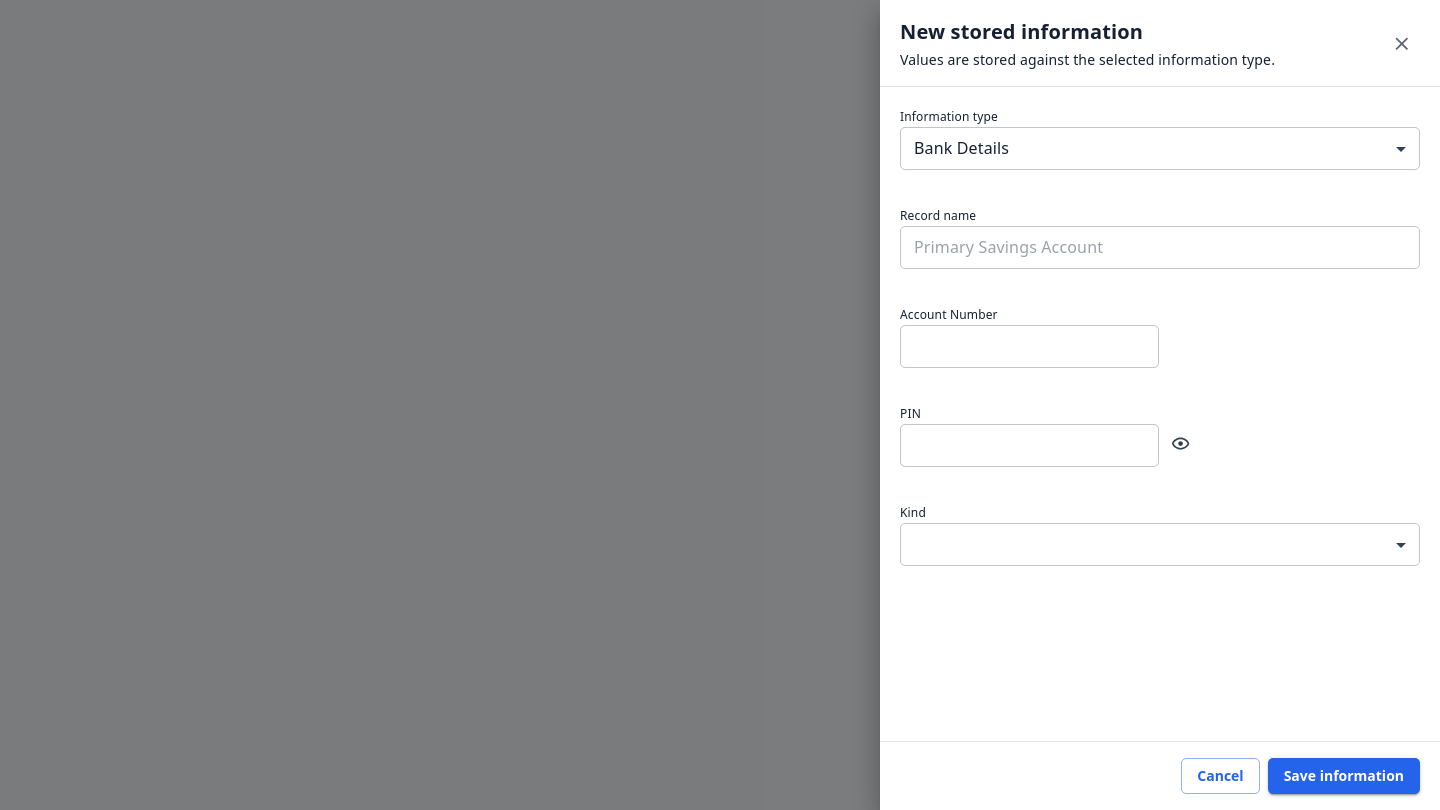
Test: LockerRecordFormDrawer › reveals masked values and reports save errors
Click the button named "Show PIN" at (1181, 444), box [1163,426,1198,462]
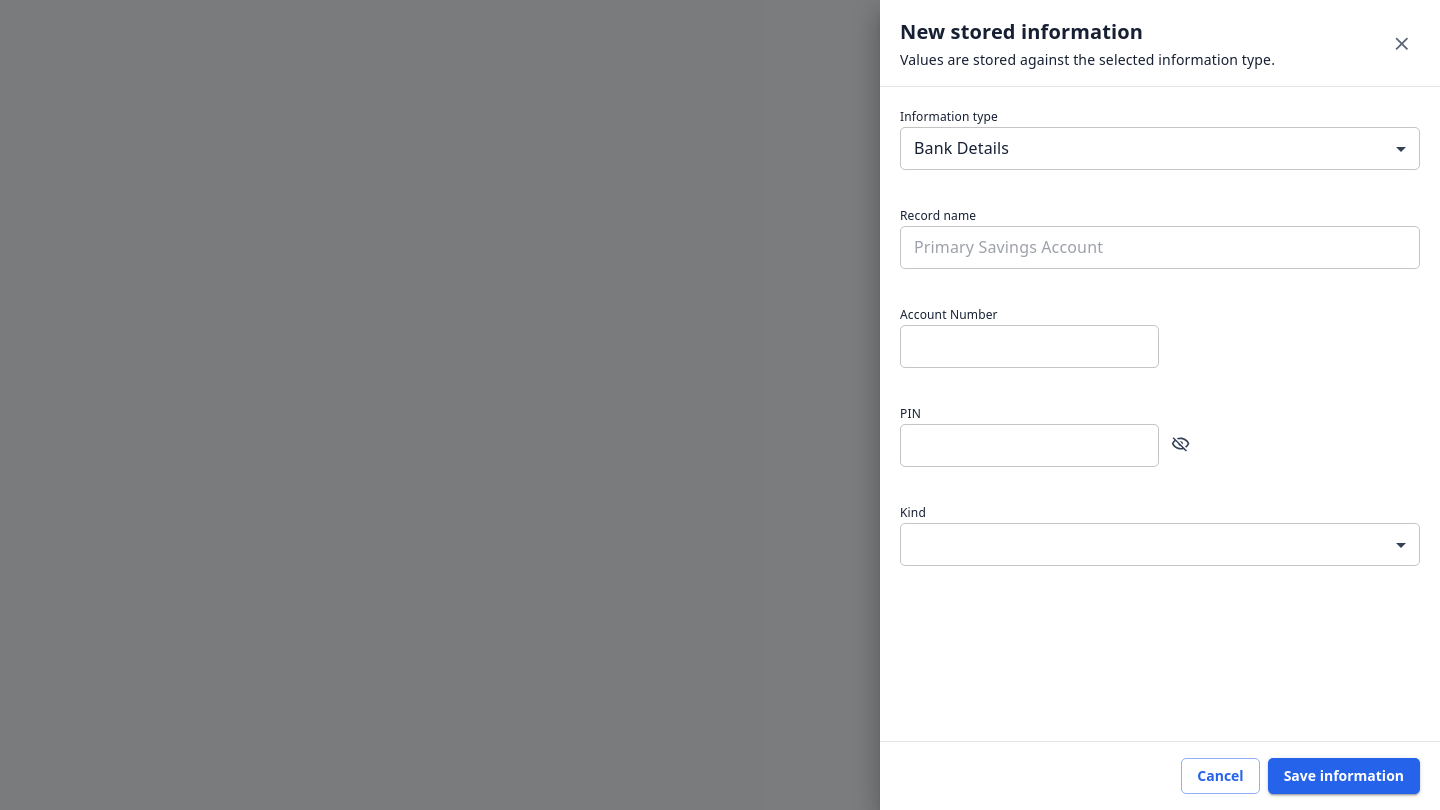
Type "Primary account" into the field with placeholder "Primary Savings Account" at (1160, 248), box [900,228,1420,268]
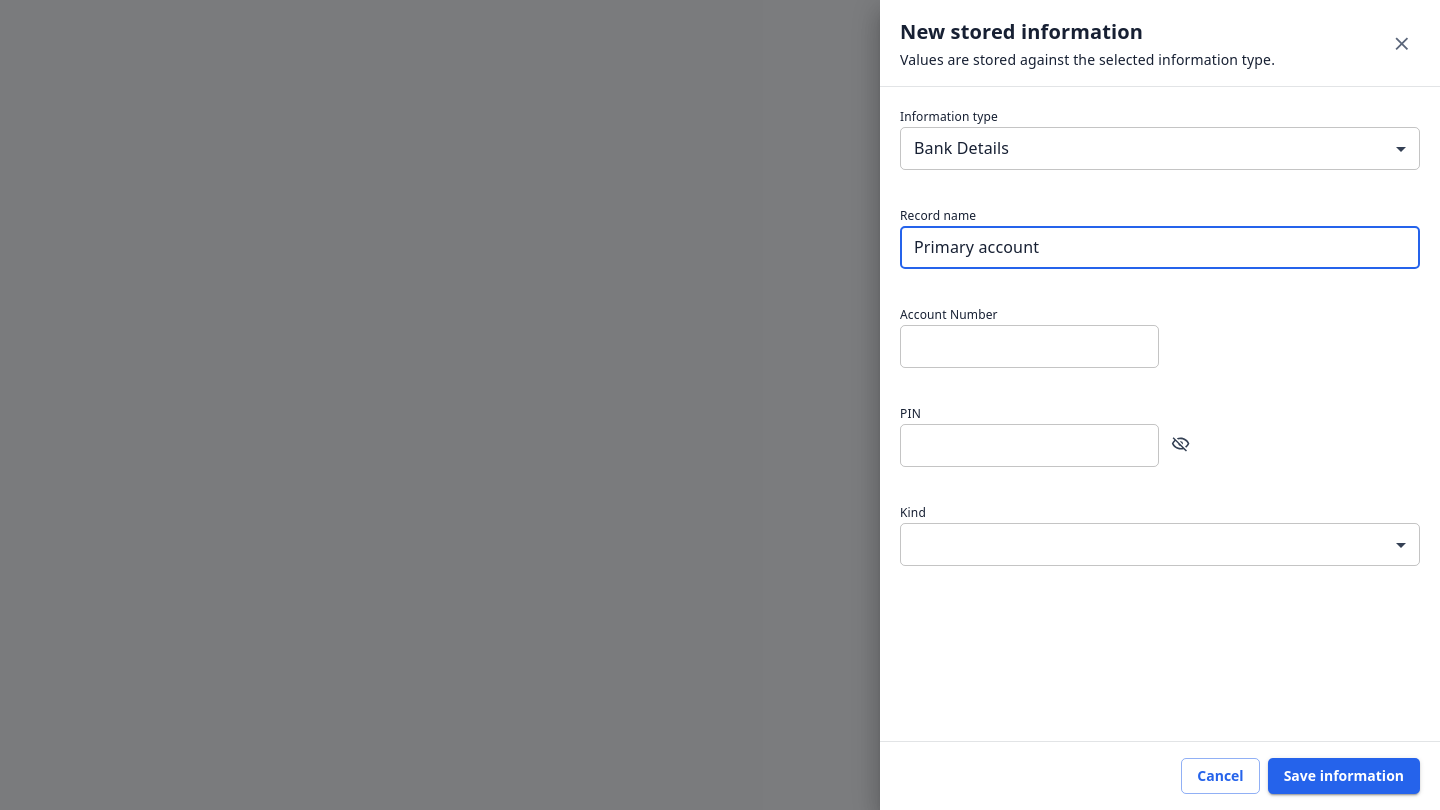
Click the button "Save information" at (1344, 776), box [1268,758,1420,794]
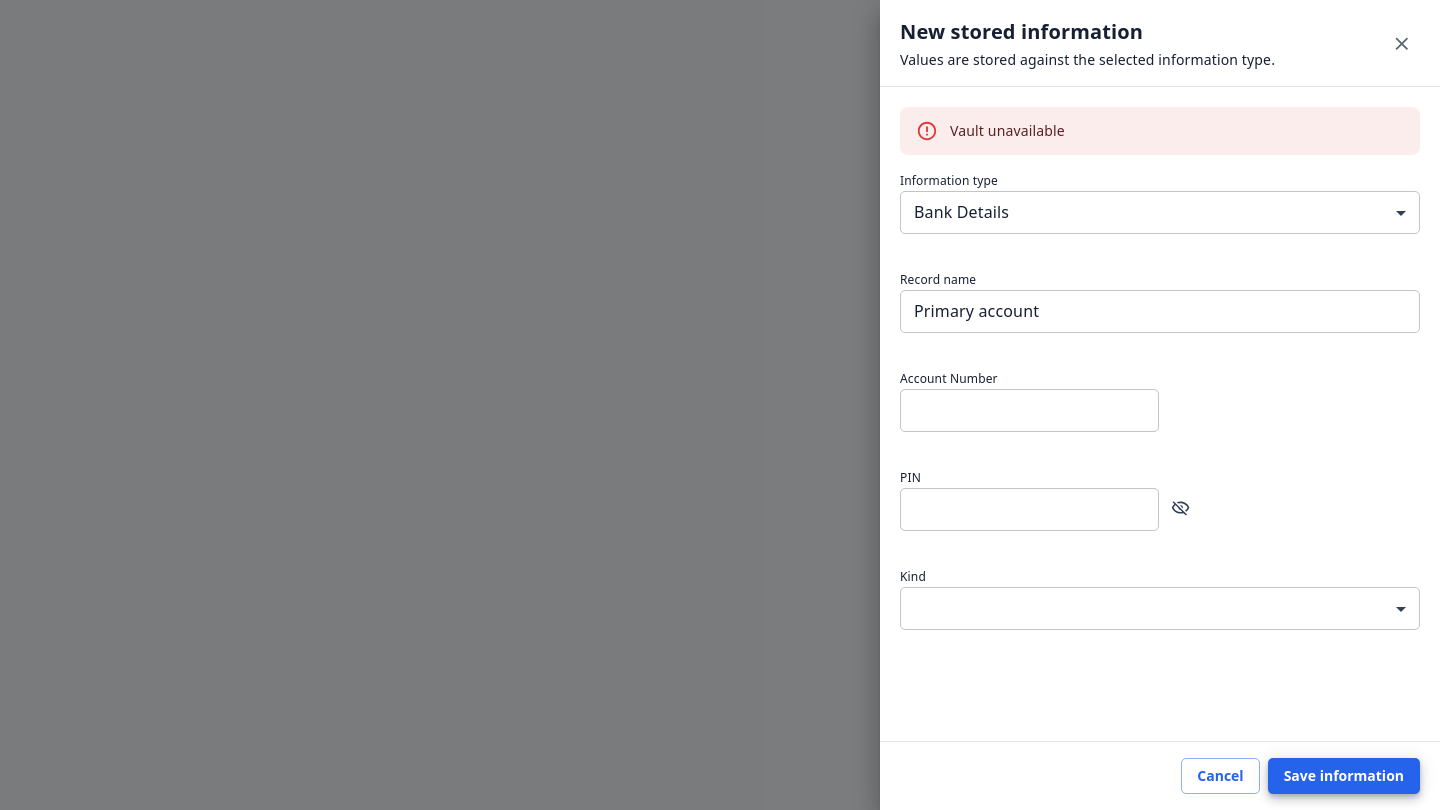
Expected: the text "Vault unavailable" is shown, [950,121,1065,140]
